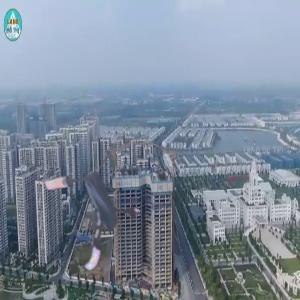drone: (43, 154, 149, 260)
